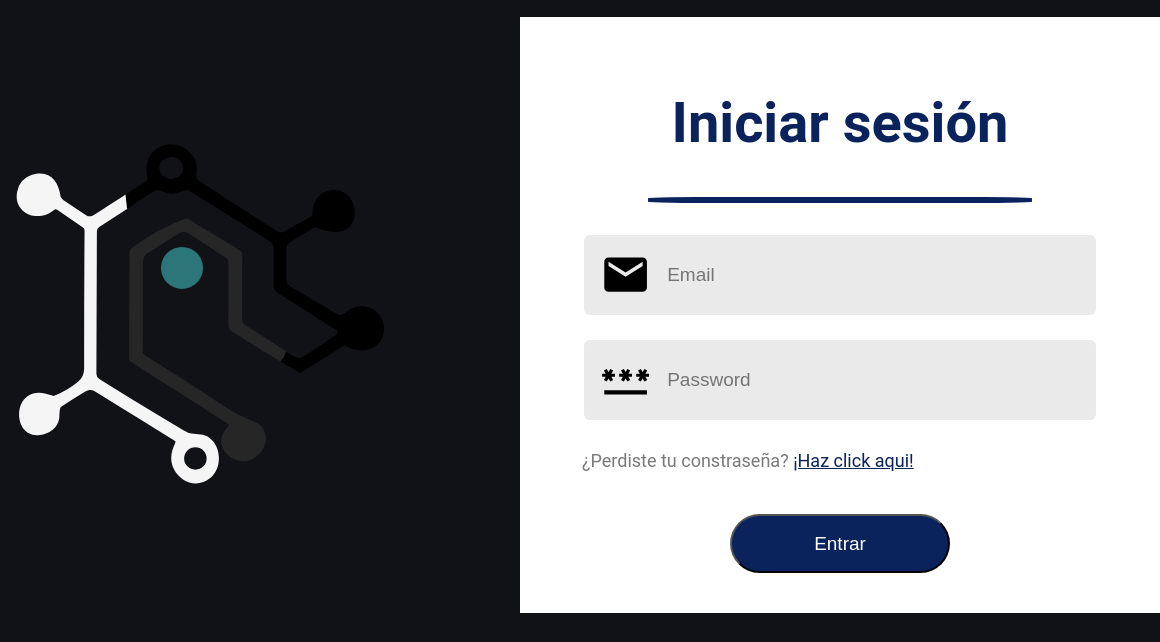
Test: Login page › shows credentials feedback when login fails
Type "user@tec.mx" into the field with placeholder "Email" at (867, 275), box [667,250,1067,300]
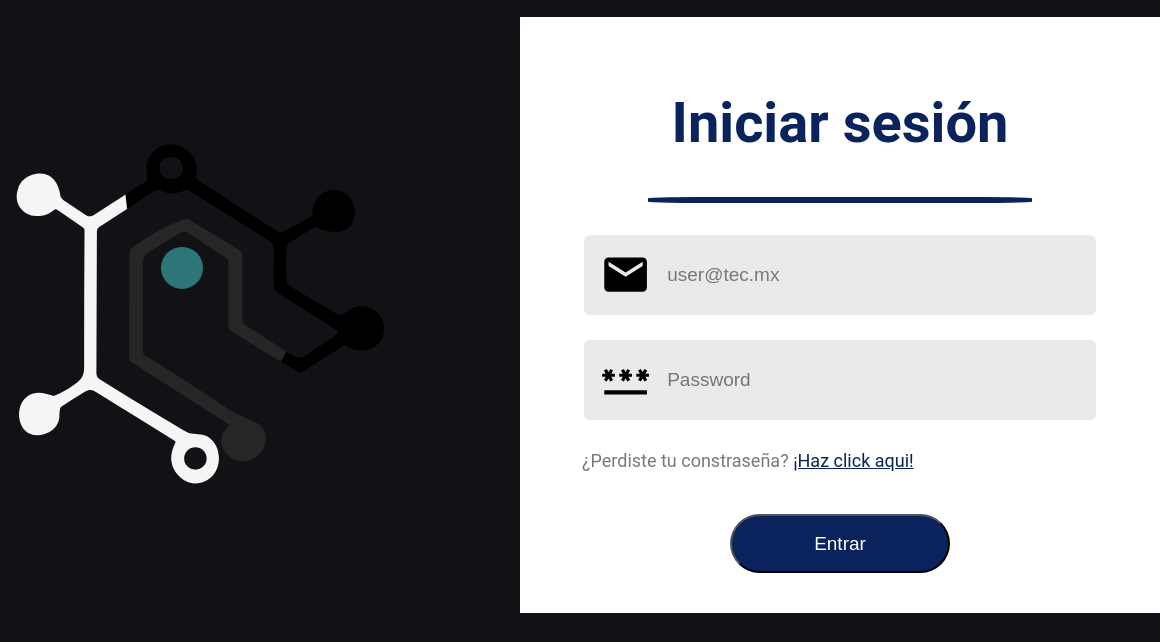
Type "bad-password" into the password field with placeholder "Password" at (867, 380), box [667,355,1067,405]
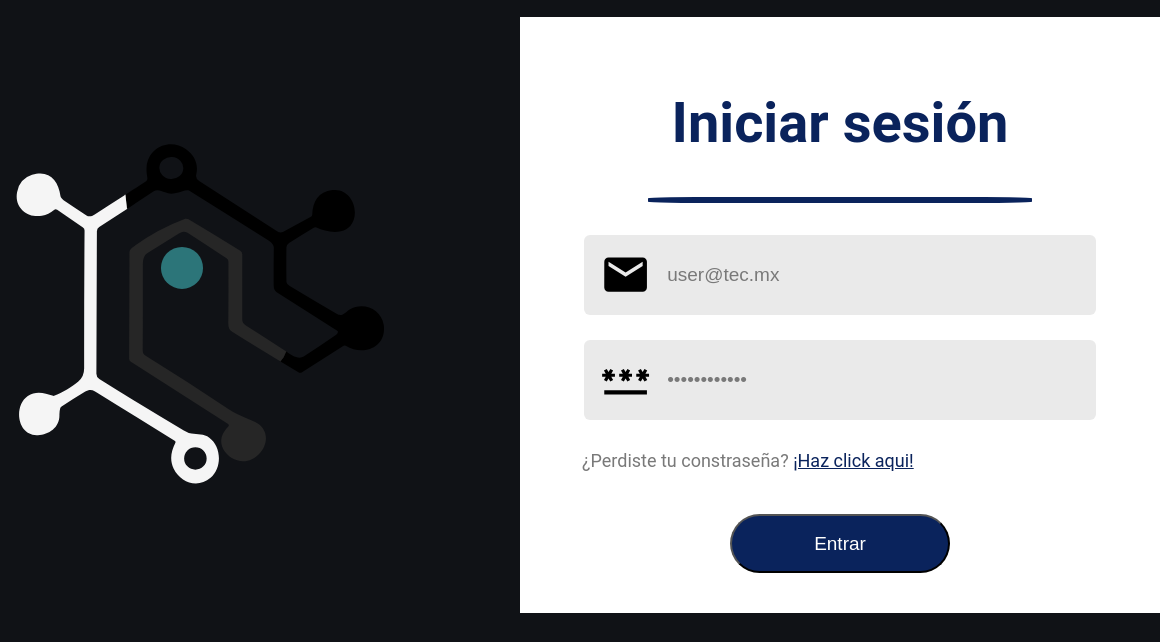
Click the button "Entrar" at (840, 544), box [730,514,950,573]
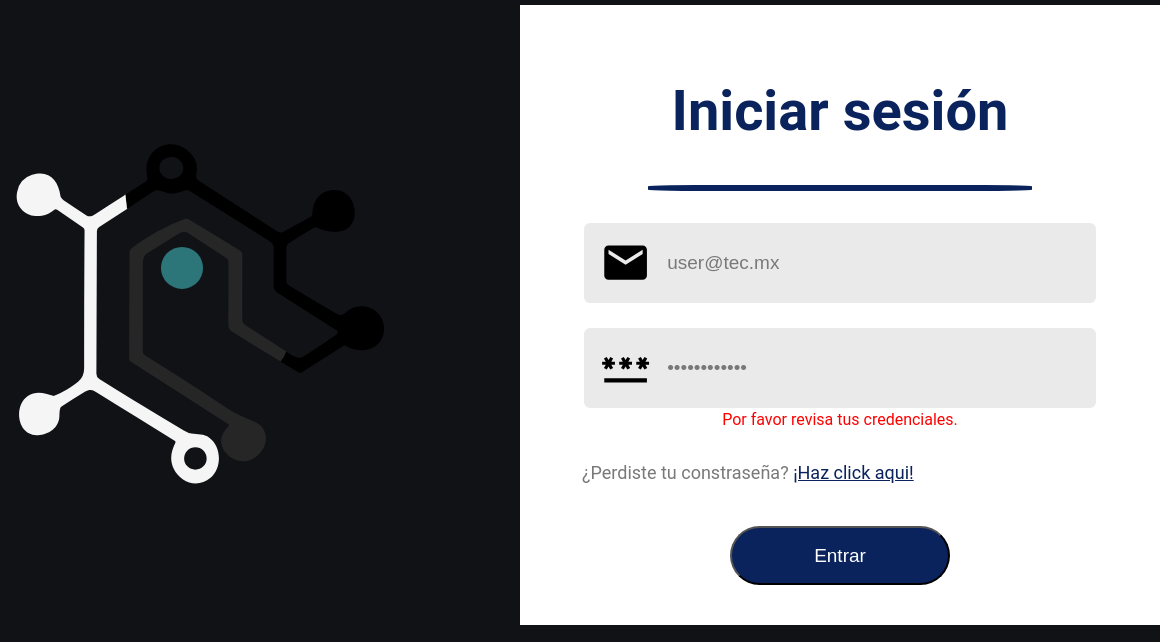
Expected: the text "Por favor revisa tus credenciales." is shown, [722,410,958,429]
